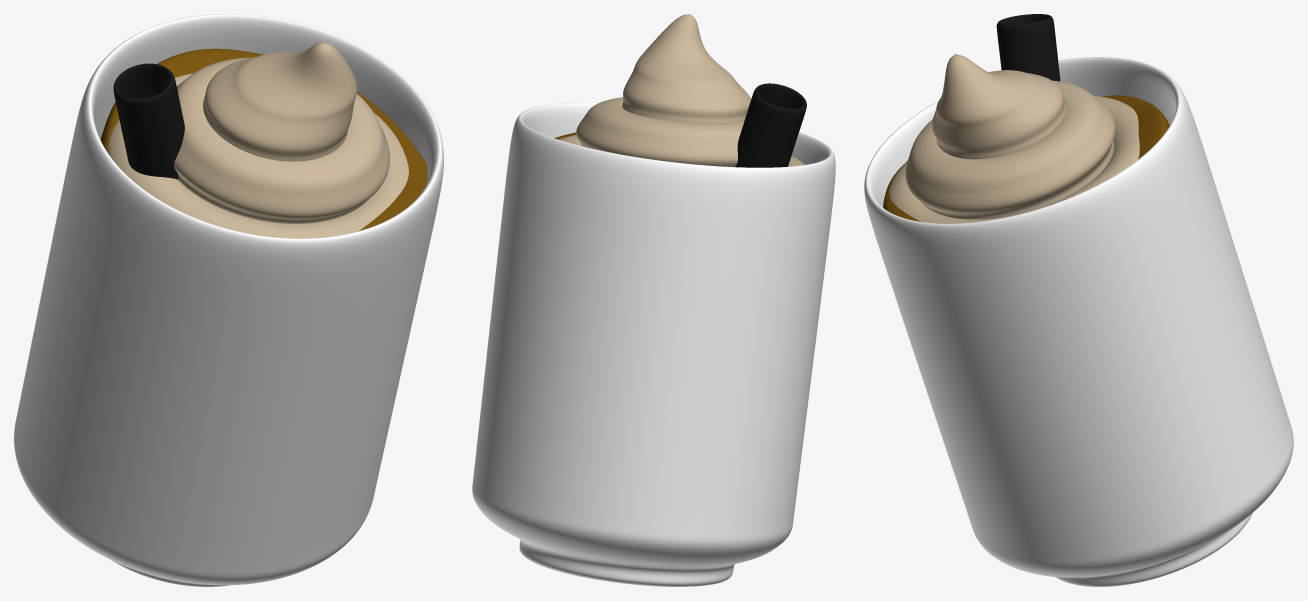
Rendered from iced-Bobas.glb.
3 views of the same model, side by side, from view 1: azimuth 30°, elevation 25°; view 2: azimuth 150°, elevation 25°; view 3: azimuth 270°, elevation 25° (orthographic). The views are drawn at different scales.
Visible parts, largest first — view 1: Cylinder.014, Torus.032, Torus.031, Torus.033, Cylinder.012, Cylinder.013; view 2: Cylinder.014, Torus.031, Torus.032, Cylinder.012; view 3: Cylinder.014, Torus.032, Torus.031, Torus.033, Cylinder.012, Cylinder.013.
Boxes of the visible parts, bbox=[...] form: Cylinder.014: bbox=[14, 14, 443, 586]; Torus.032: bbox=[174, 57, 389, 223]; Torus.031: bbox=[203, 42, 357, 161]; Torus.033: bbox=[107, 73, 408, 238]; Cylinder.012: bbox=[113, 63, 184, 179]; Cylinder.013: bbox=[100, 48, 427, 230]; Cylinder.014: bbox=[472, 102, 835, 586]; Torus.031: bbox=[622, 14, 751, 122]; Torus.032: bbox=[576, 97, 744, 166]; Cylinder.012: bbox=[735, 83, 806, 167]; Cylinder.014: bbox=[864, 57, 1293, 586]; Torus.032: bbox=[905, 80, 1115, 219]; Torus.031: bbox=[932, 54, 1066, 159]; Torus.033: bbox=[883, 96, 1139, 223]; Cylinder.012: bbox=[996, 14, 1060, 81]; Cylinder.013: bbox=[883, 95, 1169, 221].
Size of the model in its own units: 4.25 by 7.02 by 5.25.
